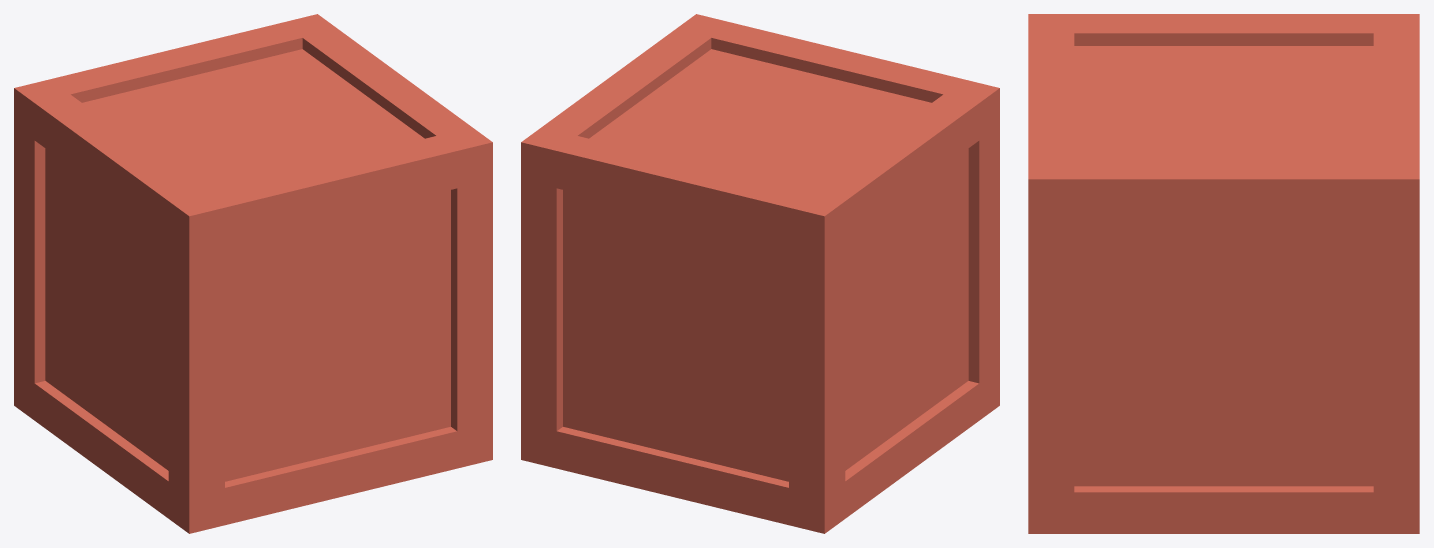
Rendered from CrateLarge.fbx.
The picture shows the model from 3 angles, left to right: view 1: azimuth 30°, elevation 25°; view 2: azimuth 150°, elevation 25°; view 3: azimuth 270°, elevation 25°; orthographic projection. The views are drawn at different scales.
Visible parts, largest first — view 1: CrateLarge; view 2: CrateLarge; view 3: CrateLarge.
Boxes of the visible parts, box(x1,y1,x2,y2) form: CrateLarge: box(14, 14, 492, 533); CrateLarge: box(521, 14, 999, 533); CrateLarge: box(1028, 14, 1419, 533).
Size of the model in its own units: 150 by 150 by 150.
